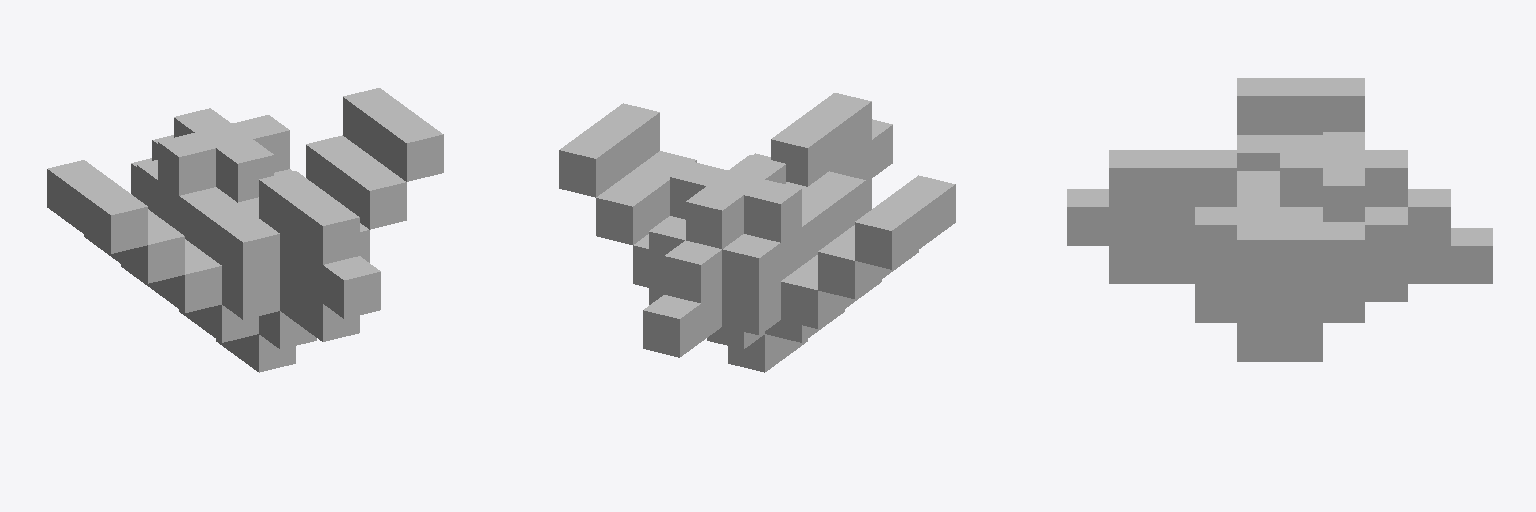
Rendered from Bird.obj.
3 views of the same model, side by side, from view 1: azimuth 30°, elevation 25°; view 2: azimuth 150°, elevation 25°; view 3: azimuth 270°, elevation 25° (orthographic).
Visible parts, largest first — view 1: object 1; view 2: object 1; view 3: object 1.
Part boxes in pixels (x1,y1,x2,y2): object 1: (47,88,443,372); object 1: (559,93,955,372); object 1: (1067,78,1492,361).
Size of the model in its own units: 0.9 by 0.5 by 1.